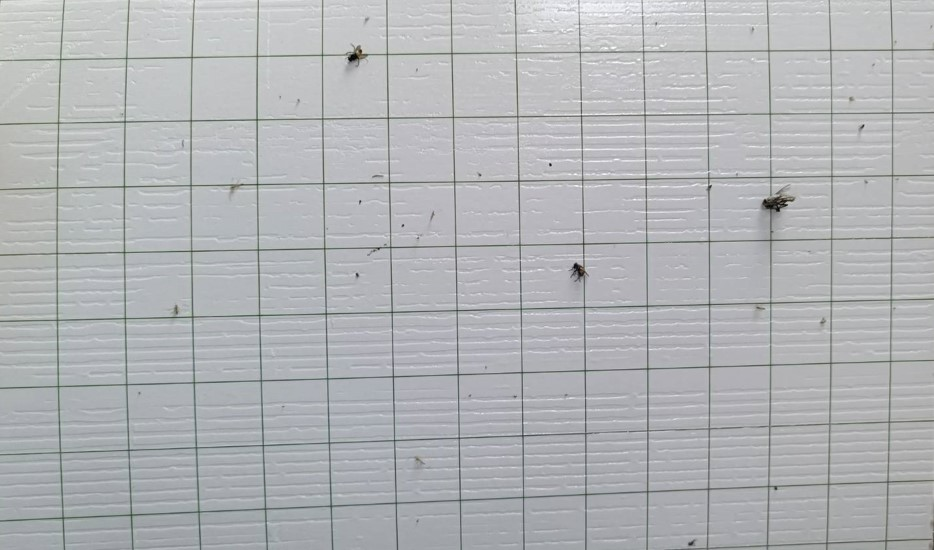fly: (760, 186, 795, 216), (341, 44, 371, 71), (568, 258, 590, 284)
test: (164, 303, 185, 319), (752, 300, 768, 317), (357, 13, 375, 26), (704, 179, 723, 191), (226, 183, 245, 192), (413, 455, 425, 467), (650, 18, 662, 29), (816, 317, 827, 328), (181, 137, 191, 149), (745, 25, 759, 33), (353, 270, 363, 281), (410, 65, 422, 74), (848, 93, 858, 103), (863, 178, 874, 187), (845, 530, 857, 538), (373, 172, 386, 179), (872, 58, 881, 68), (294, 97, 305, 105), (560, 391, 571, 399), (859, 122, 867, 133), (686, 538, 698, 545), (357, 195, 365, 205), (465, 391, 472, 402), (513, 392, 520, 403), (548, 159, 555, 170), (476, 168, 484, 177), (279, 402, 287, 410), (414, 233, 423, 240), (925, 23, 934, 30), (135, 388, 144, 395), (480, 364, 490, 370), (279, 94, 285, 103), (428, 211, 437, 217), (773, 486, 779, 495), (413, 516, 422, 522), (848, 258, 856, 264), (398, 222, 406, 227), (786, 15, 795, 19), (893, 41, 899, 45)
